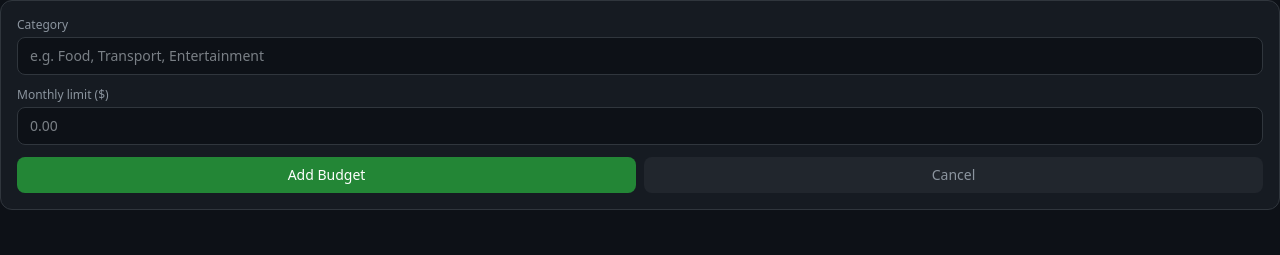
Scenario: BudgetForm › does not submit with zero limit
Type "Food" into the field labelled "Category".
click(640, 56); type("Food")  # box [17, 37, 1263, 75]
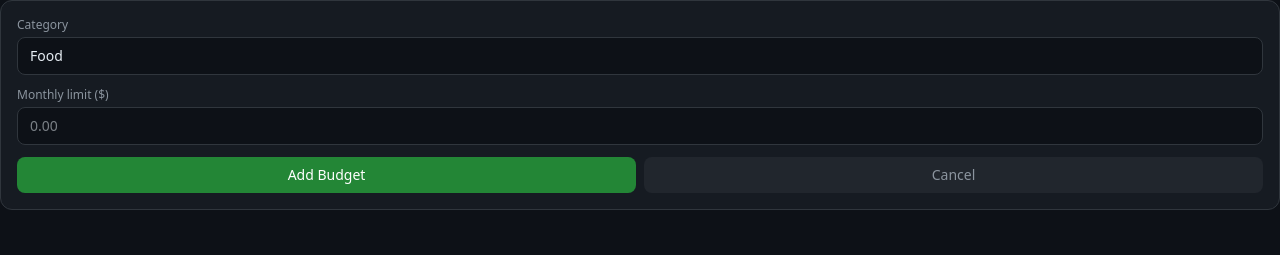
Type "0" into the number field labelled "Monthly limit ($)".
click(640, 126); type("0")  # box [17, 107, 1263, 145]
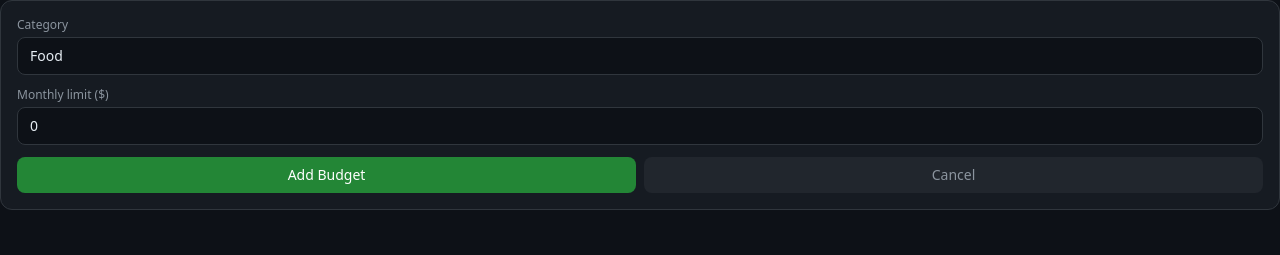
Submit the form
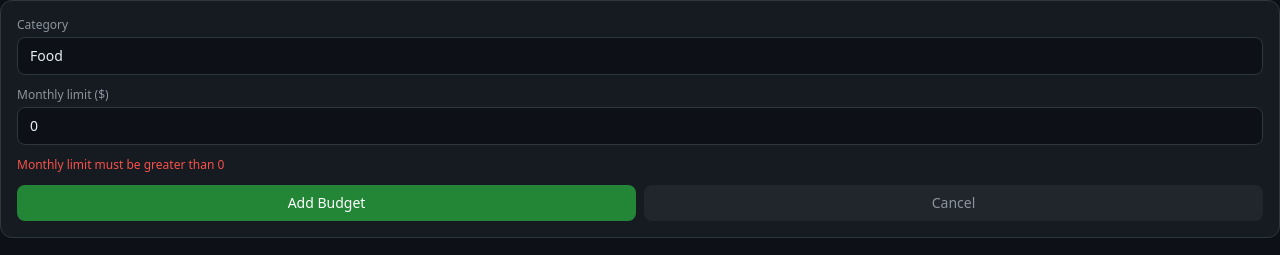
Expected: the message reads "Monthly limit must be greater than 0", [17, 156, 224, 173]
